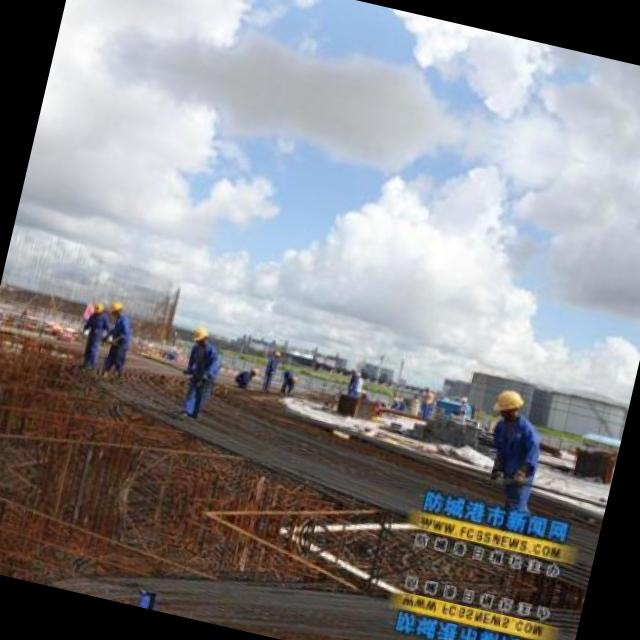helmet: (490, 382, 529, 421), (188, 321, 212, 346), (106, 294, 127, 319), (88, 298, 106, 318)
